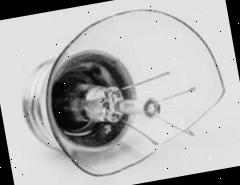lightbulb: (9, 0, 237, 185), (141, 96, 161, 120)
